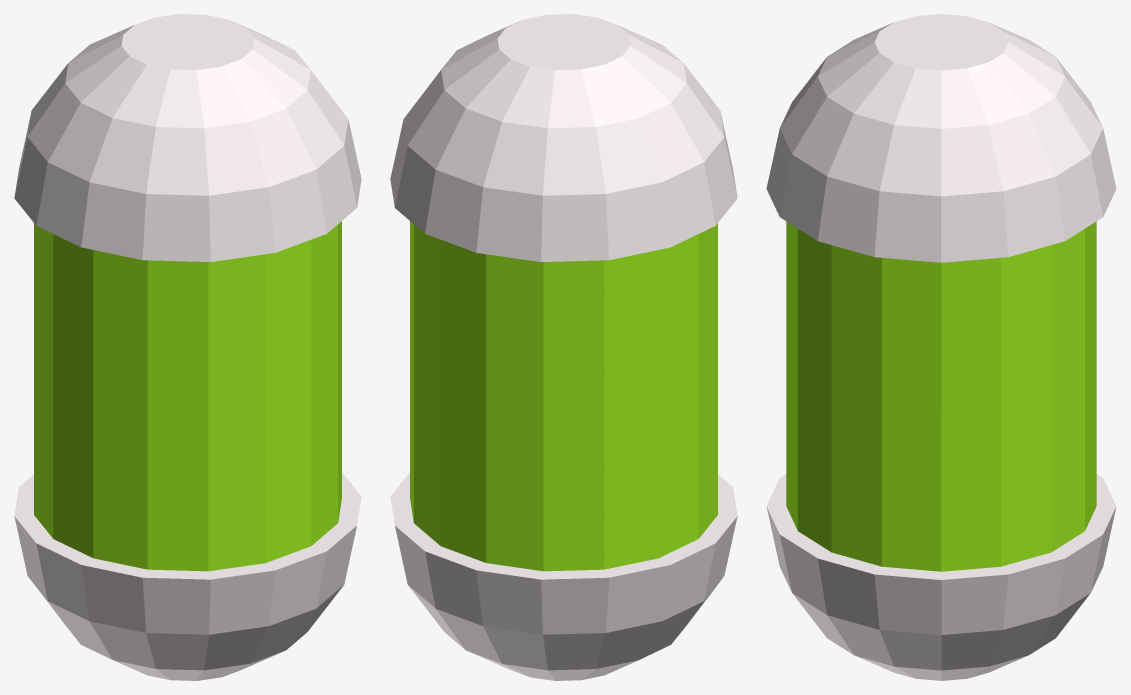
The model's file is Chlorine.fbx.
The picture shows the model from 3 angles, left to right: view 1: azimuth 30°, elevation 25°; view 2: azimuth 150°, elevation 25°; view 3: azimuth 270°, elevation 25°; orthographic projection.
Parts seen in each view (by area): view 1: Glass, SideTop, SideBottom; view 2: Glass, SideTop, SideBottom; view 3: Glass, SideTop, SideBottom.
Part boxes in pixels (<box>): Glass: <box>34,221,341,571</box>; SideTop: <box>14,14,361,261</box>; SideBottom: <box>14,472,361,680</box>; Glass: <box>410,221,717,571</box>; SideTop: <box>390,14,737,261</box>; SideBottom: <box>390,472,737,680</box>; Glass: <box>786,221,1096,571</box>; SideTop: <box>766,14,1116,262</box>; SideBottom: <box>766,474,1116,680</box>.
Bounding box in the file's own units: 121 × 233 × 121.
